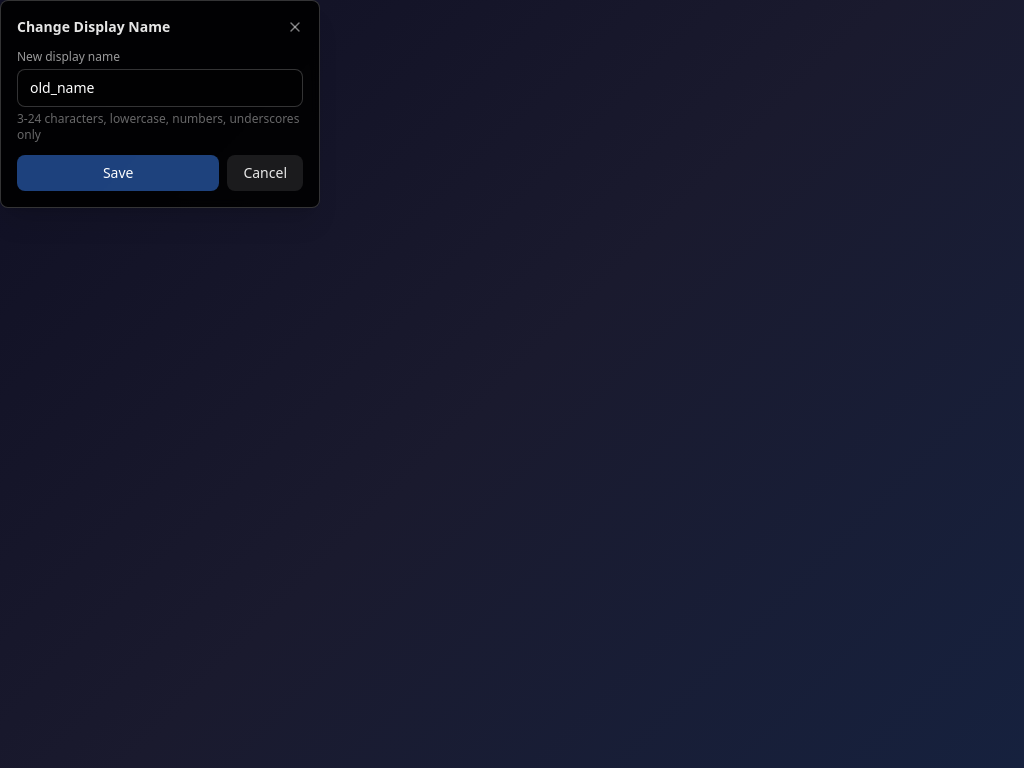
Test: ProfileRename - Rename Flow › 403 banned shows error
Replace the text in the field labelled "New display name" with "new_name" at (160,88), box [17,69,303,107]
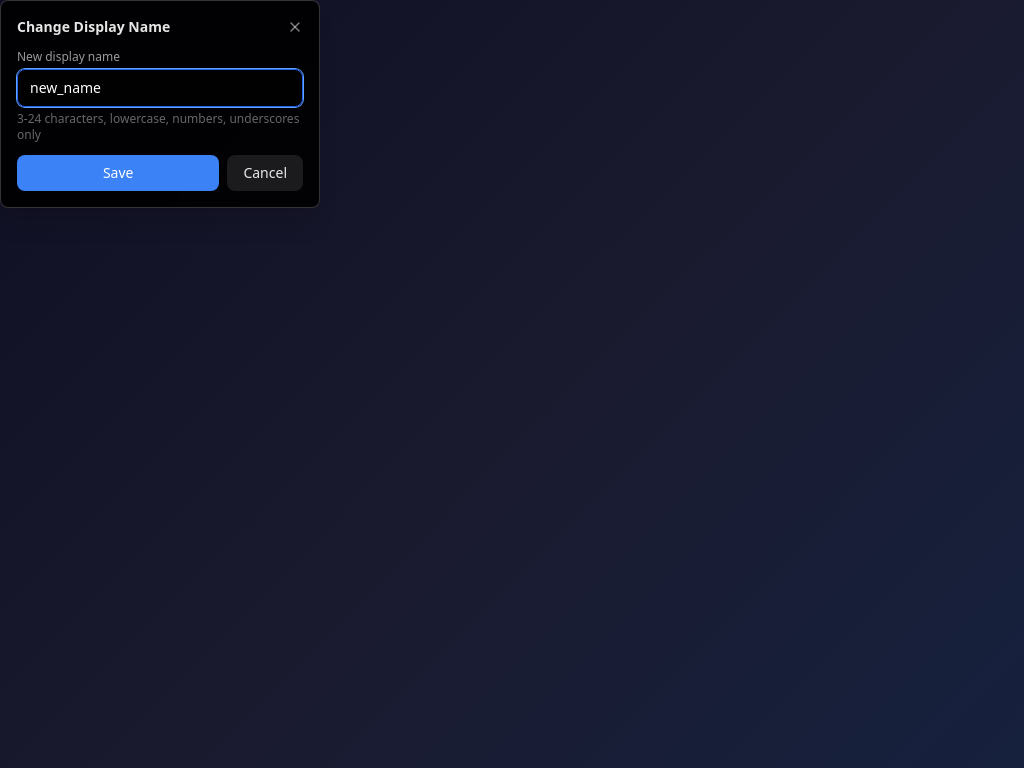
Click the button "Save" at (118,173), box [17,155,219,191]
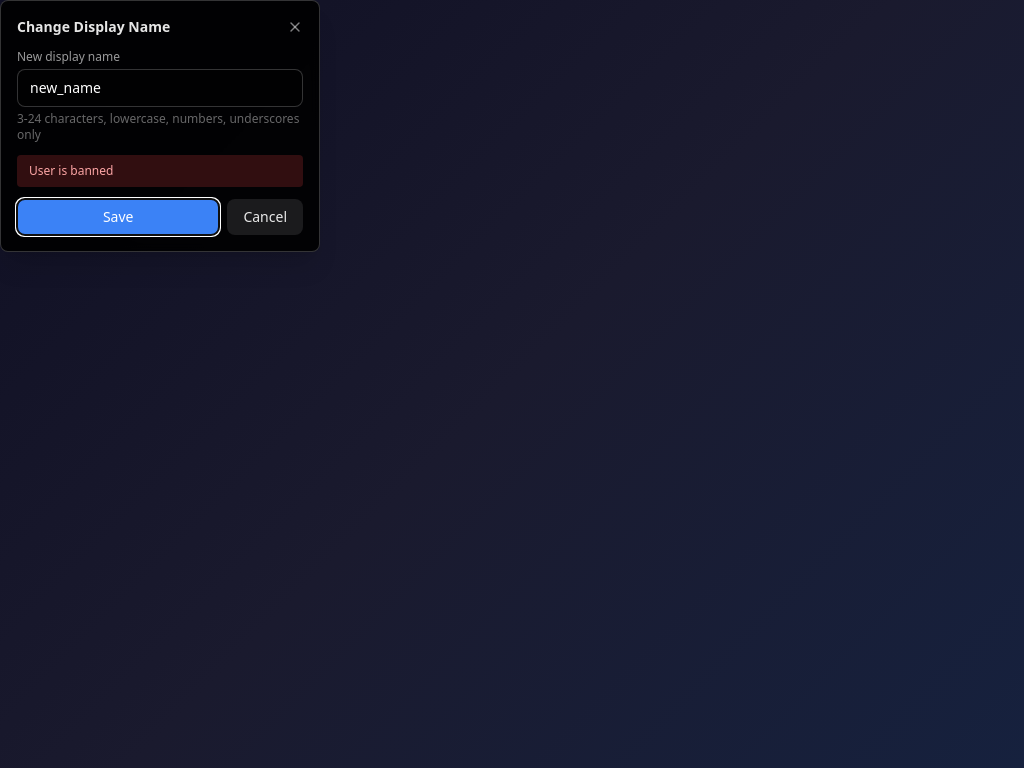
Check: the text "User is banned" is shown, box [17,155,303,187]
